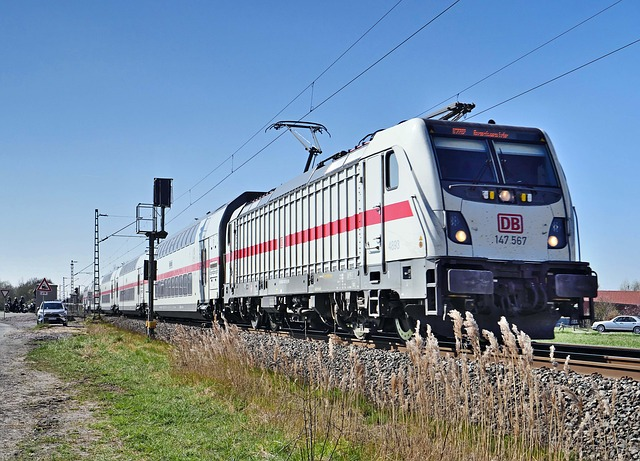train1: (81, 109, 605, 347)
